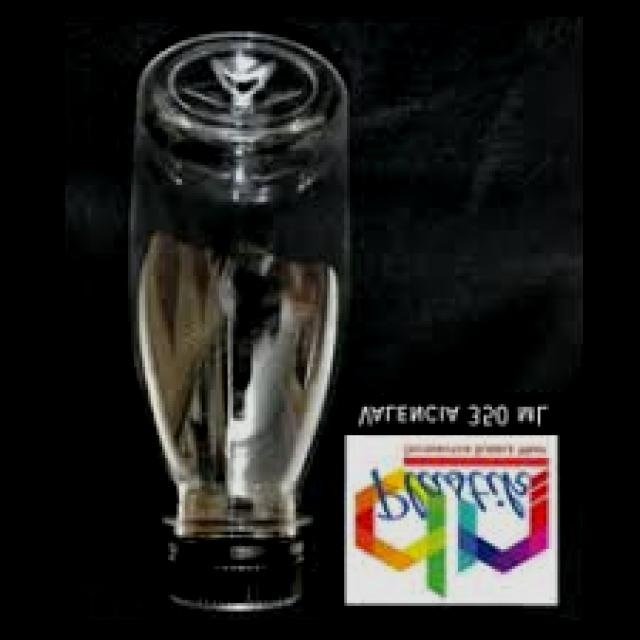bottle: (124, 31, 368, 615)
